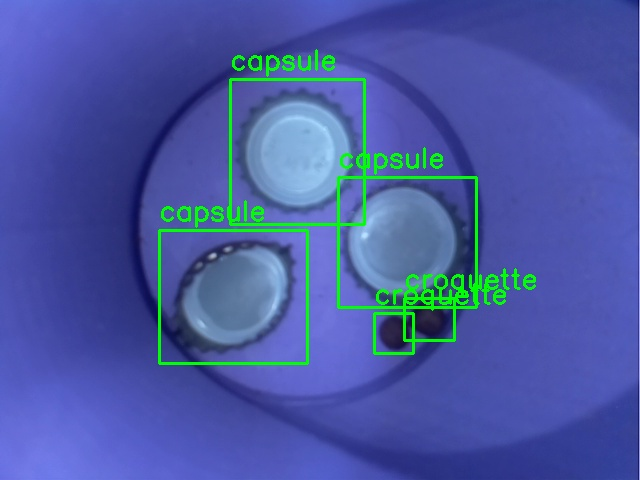capsule: (159, 230, 307, 363), (230, 79, 364, 224), (338, 177, 476, 307)
croquette: (404, 298, 454, 340), (374, 313, 413, 353)
